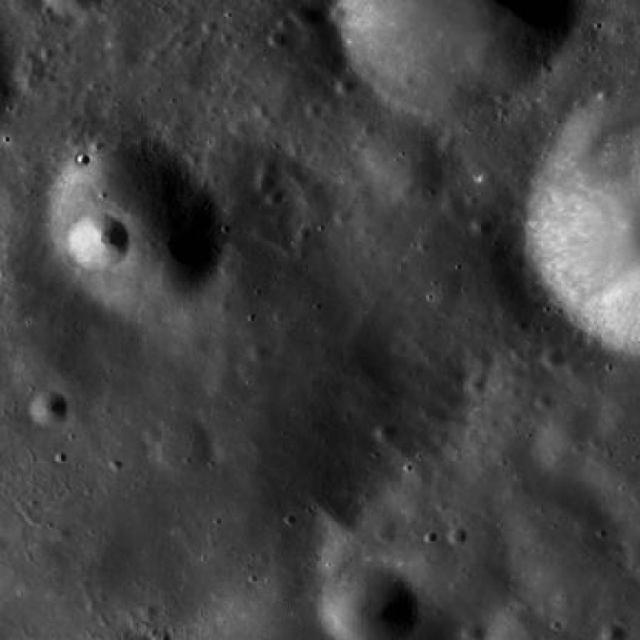crater: (314, 189, 548, 403), (42, 143, 226, 312), (356, 460, 541, 628), (332, 0, 576, 118), (495, 479, 620, 593), (358, 114, 453, 202), (532, 404, 614, 478), (147, 412, 215, 474), (67, 212, 130, 271), (292, 182, 338, 224), (318, 494, 364, 536), (26, 392, 68, 428), (14, 59, 50, 92), (600, 12, 634, 43), (314, 47, 346, 76), (109, 45, 140, 73), (293, 3, 322, 29), (466, 348, 492, 374), (440, 196, 466, 219), (540, 346, 566, 368), (466, 373, 489, 395), (471, 216, 494, 236), (256, 176, 278, 196), (256, 158, 278, 178), (142, 424, 164, 444), (462, 623, 486, 640), (336, 76, 356, 95), (448, 526, 468, 545), (268, 30, 287, 48), (535, 392, 554, 410), (250, 343, 268, 360), (335, 207, 353, 224), (378, 527, 396, 544), (140, 603, 158, 620), (376, 423, 394, 440), (203, 17, 220, 34), (304, 102, 322, 118), (0, 0, 2, 2)
